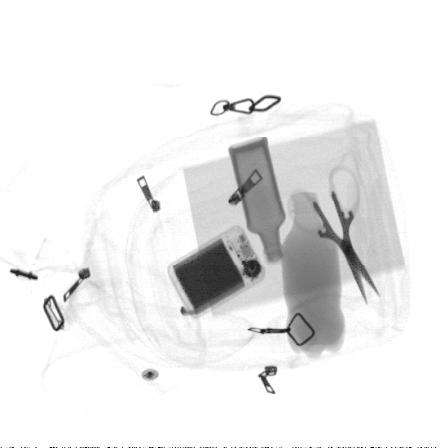Powerbank: (165, 225, 265, 320)
Scissors: (286, 167, 382, 308)
